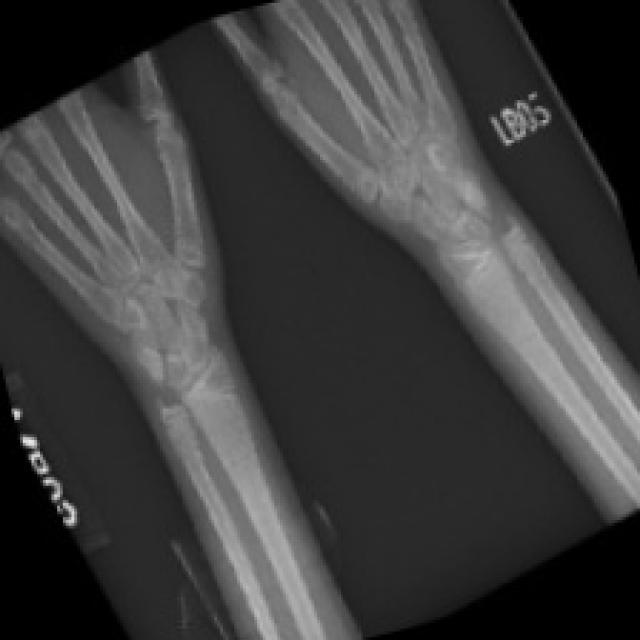fracture: (114, 338, 232, 458), (452, 179, 565, 283)
